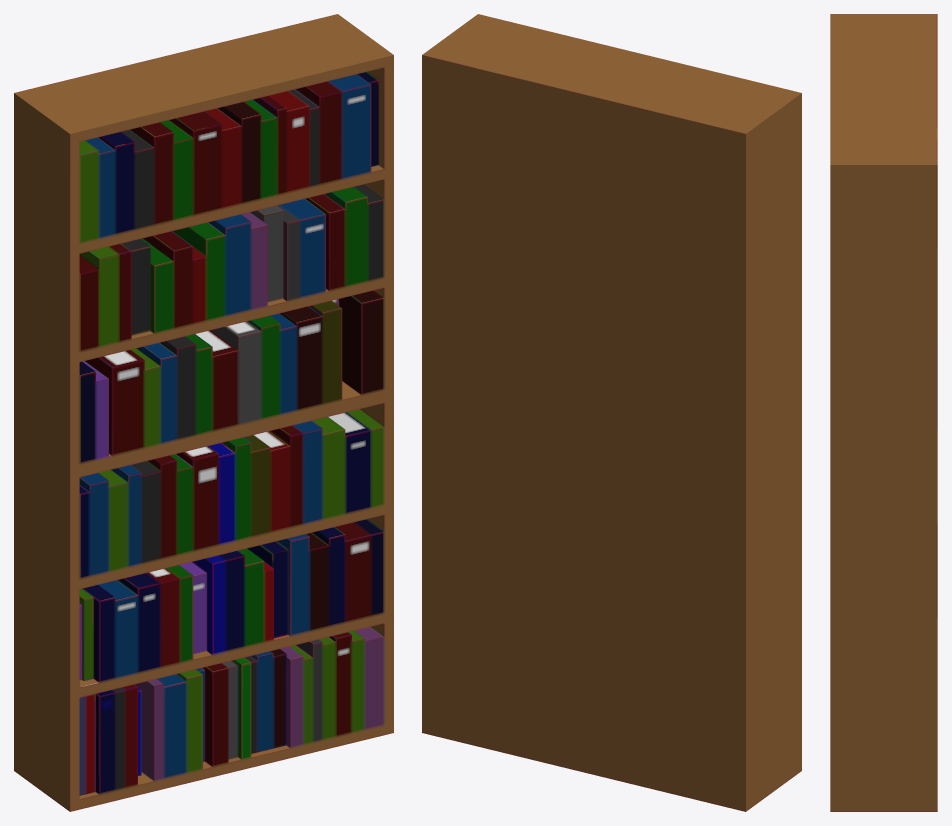
The model's file is full bookshelf_13.obj.
3 views of the same model, side by side, from view 1: azimuth 30°, elevation 25°; view 2: azimuth 150°, elevation 25°; view 3: azimuth 270°, elevation 25° (orthographic). The views are drawn at different scales.
Parts seen in each view (by area): view 1: full_bookshelf_13; view 2: full_bookshelf_13; view 3: full_bookshelf_13.
Part boxes in pixels (x1,y1,x2,y2): full_bookshelf_13: (14,14,393,811); full_bookshelf_13: (422,14,801,811); full_bookshelf_13: (830,14,937,811).
Size of the model in its own units: 10 by 20 by 3.
1 material, 1 textured.
